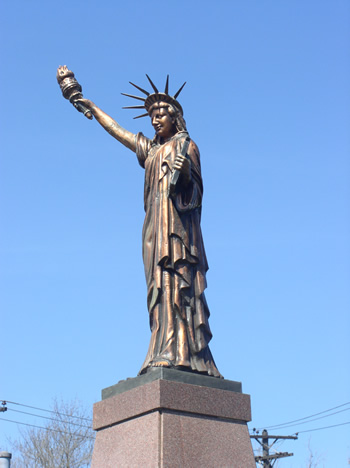person-like: (52, 60, 228, 380)
